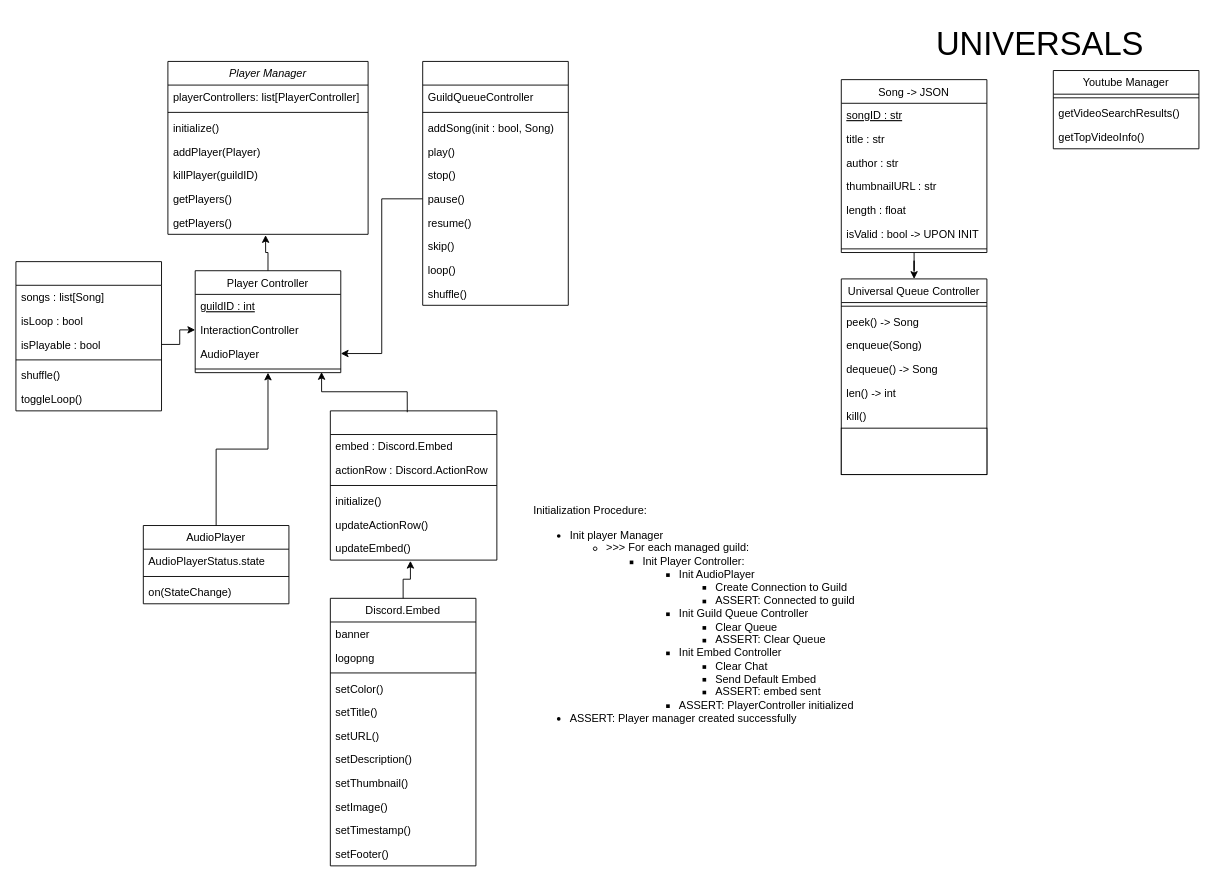
This 1215x884 diagram has some shape labels left out. Here are the shapes that lost their labels. From the top down, the box of each, then its label:
(422, 61, 568, 305): Interaction Controller
(15, 261, 162, 411): Guild Queue Controller
(840, 427, 987, 475): NOTE: Methods must be given a guildID
(329, 410, 497, 560): Embed Controller
